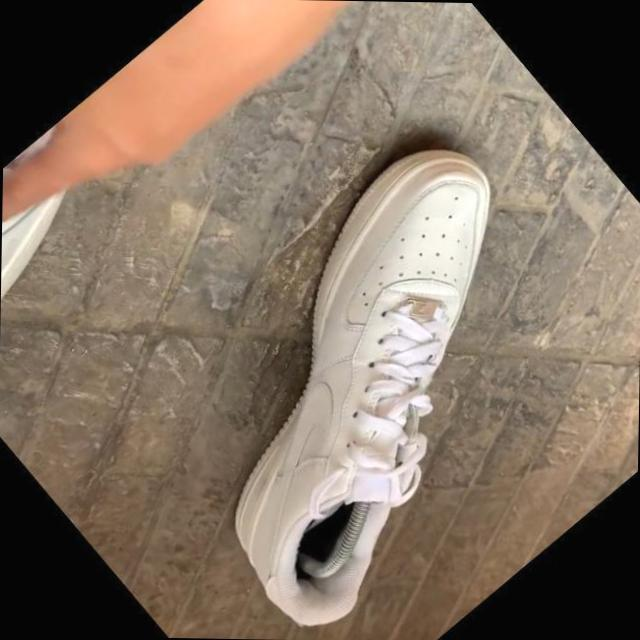nike_fake_airforce: (99, 102, 640, 640)
